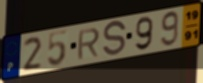2: (22, 35, 43, 73)
5: (46, 28, 70, 68)
9: (159, 9, 180, 49), (134, 15, 155, 52)
R: (76, 27, 102, 62)
S: (102, 19, 128, 59)
